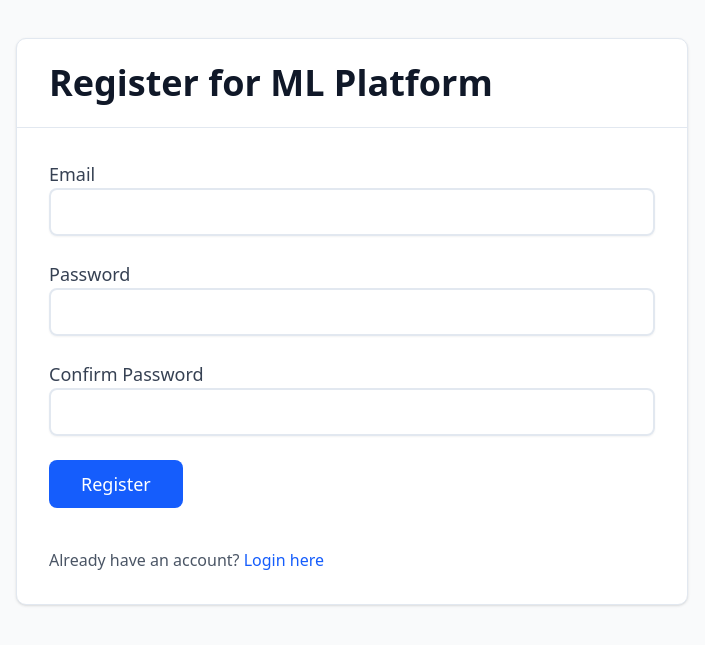
Test case: RegisterPage › failed register shows error message returned by register
This screenshot has width=705, height=645.
Type "taken@example.com" into the field labelled "Email" at (352, 212), box [49, 188, 655, 236]
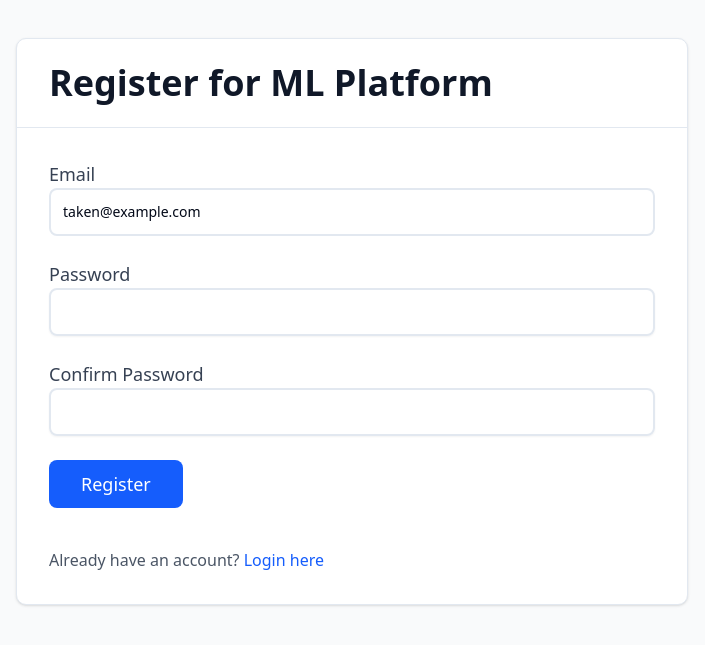
Type "mypassword" into the password field labelled "Password" at (352, 312), box [49, 288, 655, 336]
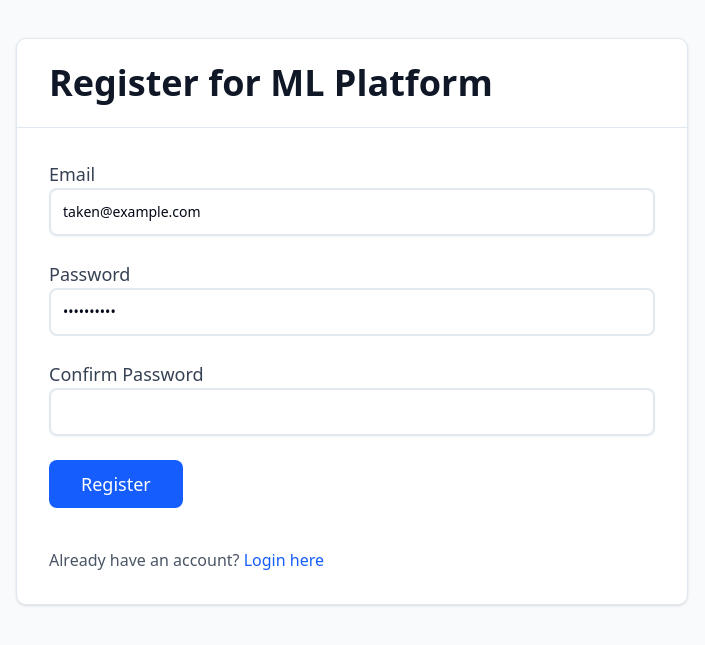
Type "mypassword" into the password field labelled "Confirm Password" at (352, 412), box [49, 388, 655, 436]
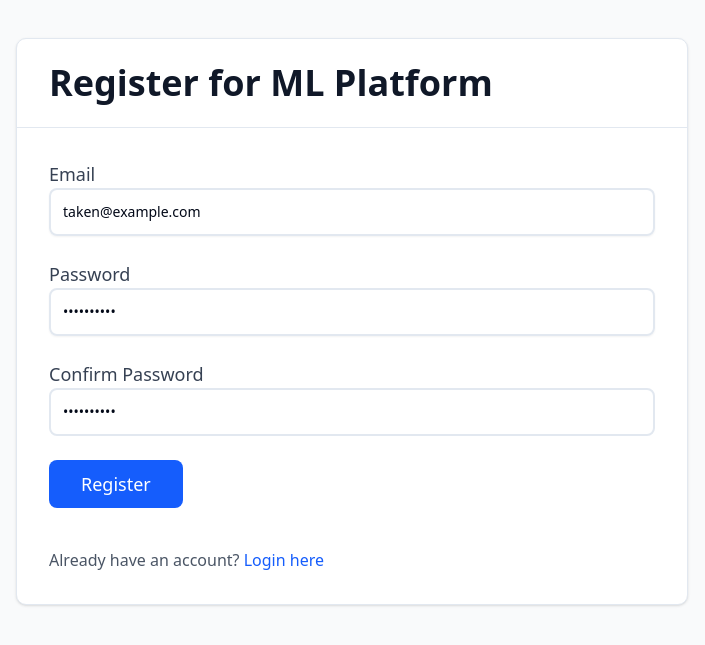
Click the button "Register" at (116, 484), box [49, 460, 183, 508]
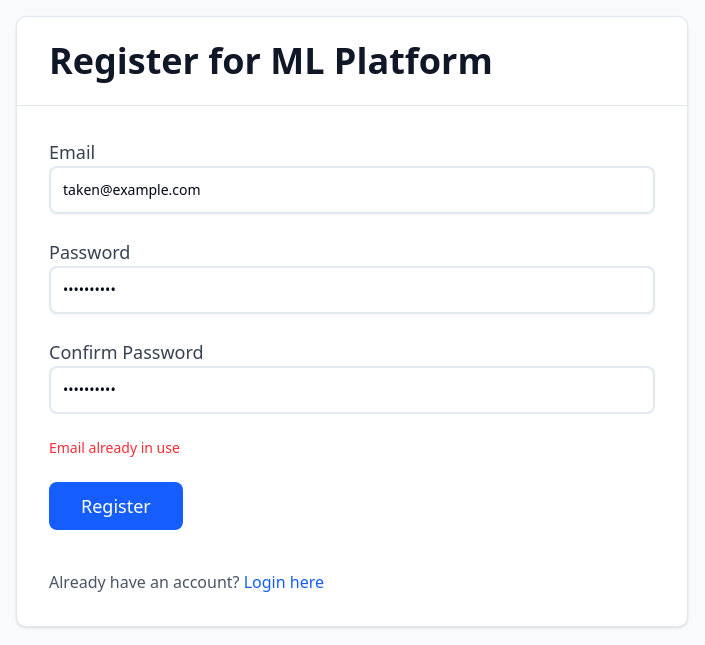
Expected: the text "Email already in use" is shown, [49, 438, 180, 456]
